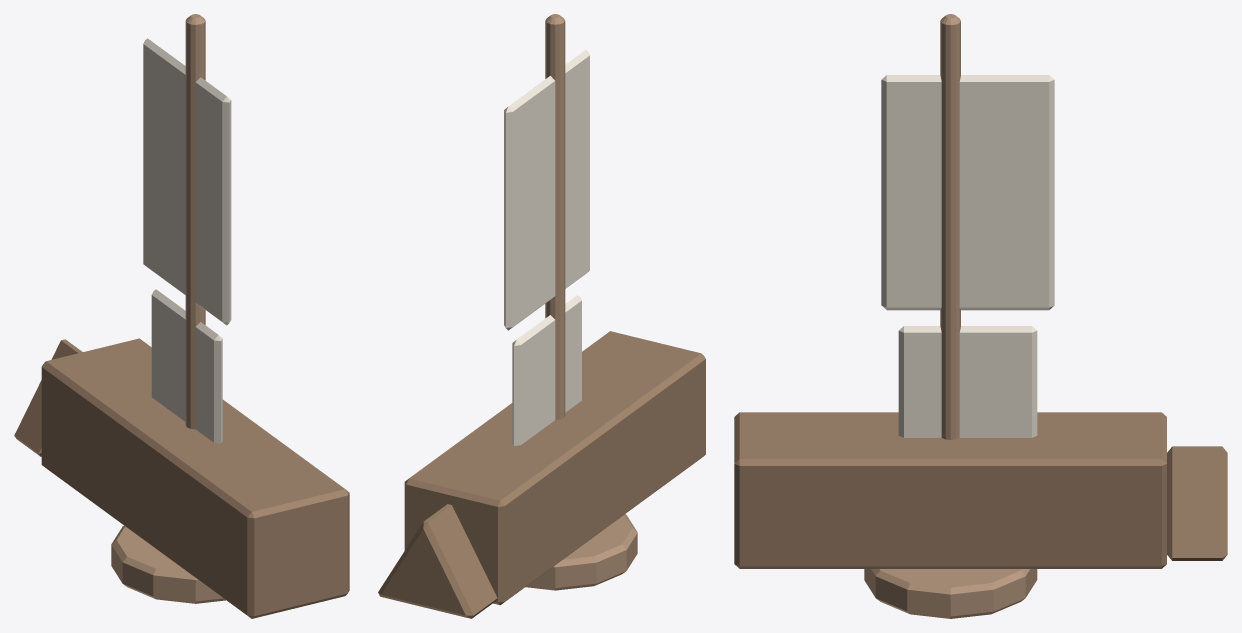
File: SM_Model_Ship.fbx
3 views of the same model, side by side, from view 1: azimuth 30°, elevation 25°; view 2: azimuth 150°, elevation 25°; view 3: azimuth 270°, elevation 25° (orthographic). The views are drawn at different scales.
Parts seen in each view (by area): view 1: Model_Ship; view 2: Model_Ship; view 3: Model_Ship.
Boxes of the visible parts, box(x1,y1,x2,y2) form: Model_Ship: box(14, 14, 349, 618); Model_Ship: box(378, 14, 705, 618); Model_Ship: box(734, 14, 1227, 618).
Size of the model in its own units: 20 by 72.5 by 57.
